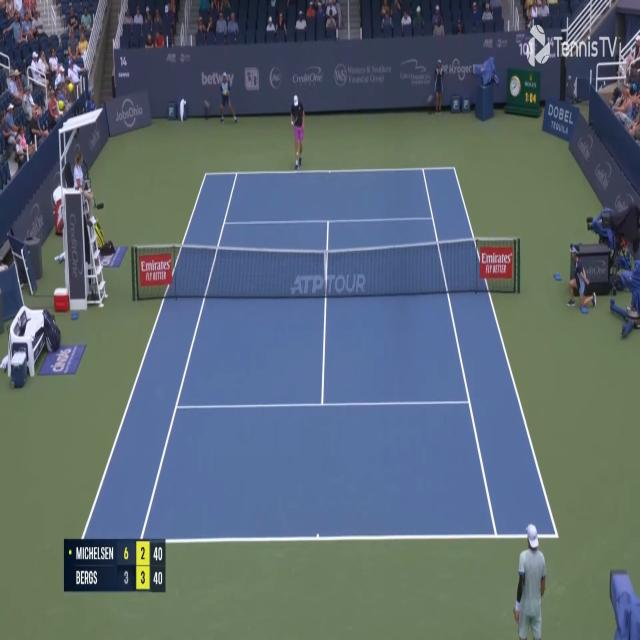tennis-player: (511, 522, 547, 639), (288, 92, 304, 172)
